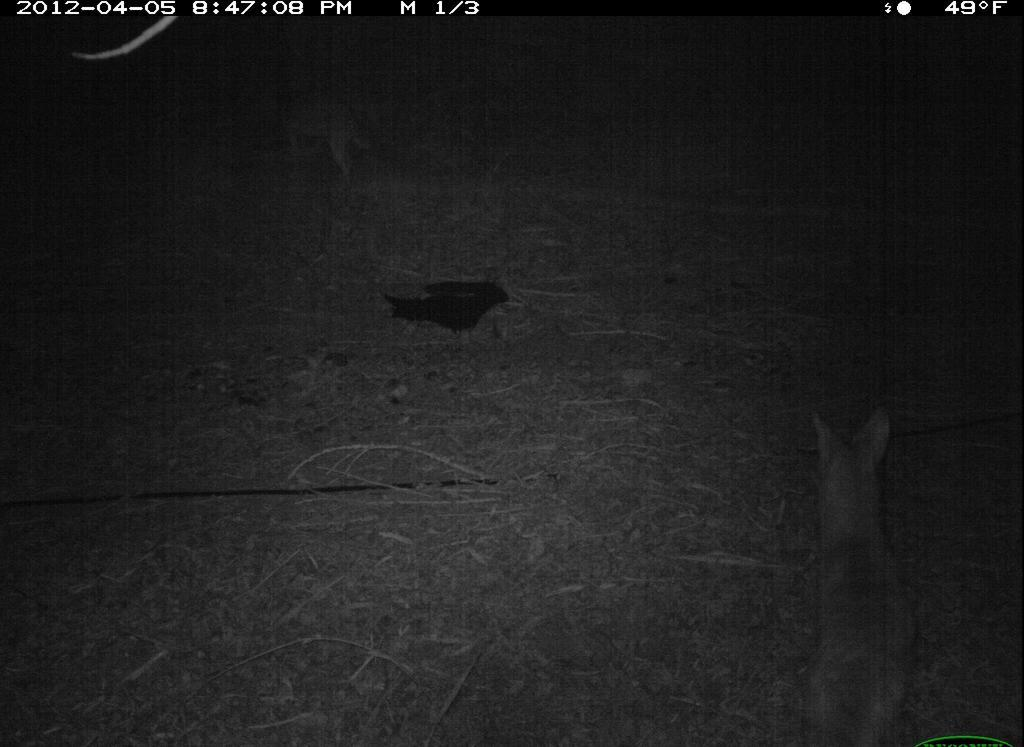coyote: (797, 405, 932, 742)
